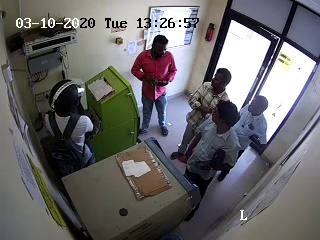helmet: (47, 78, 88, 117)
